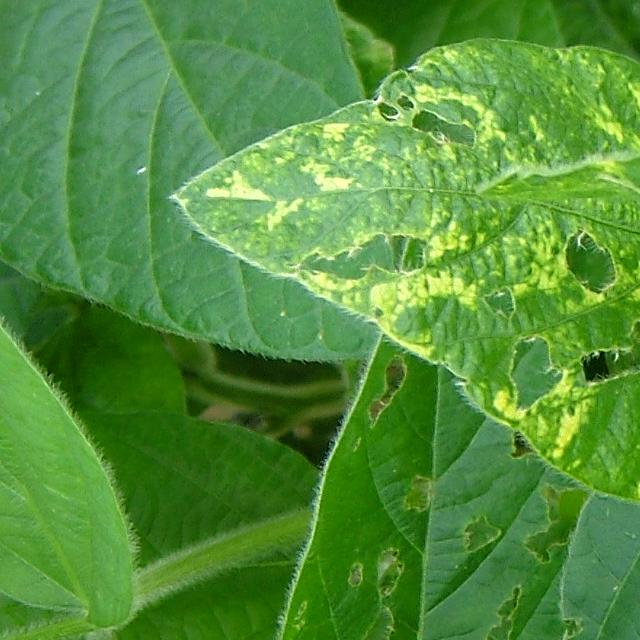Tomato leaf mosaic virus: (171, 13, 640, 510)
